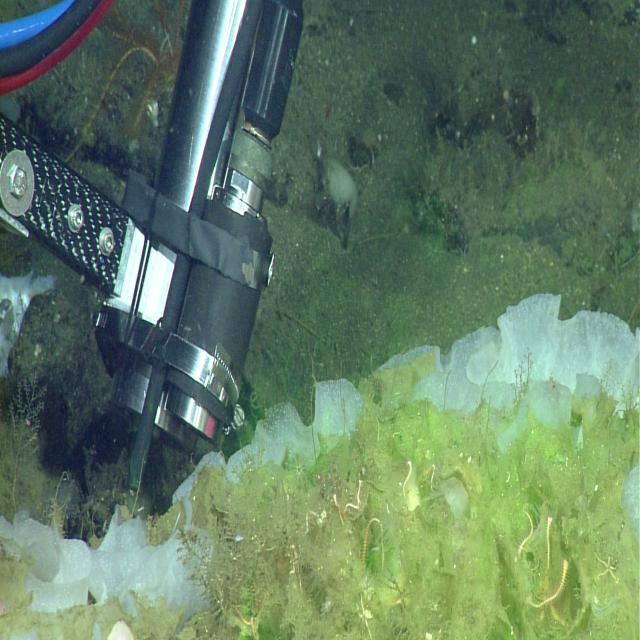Brittle Star: (593, 547, 624, 587)
Not Brittle Star: (1, 502, 209, 630)
